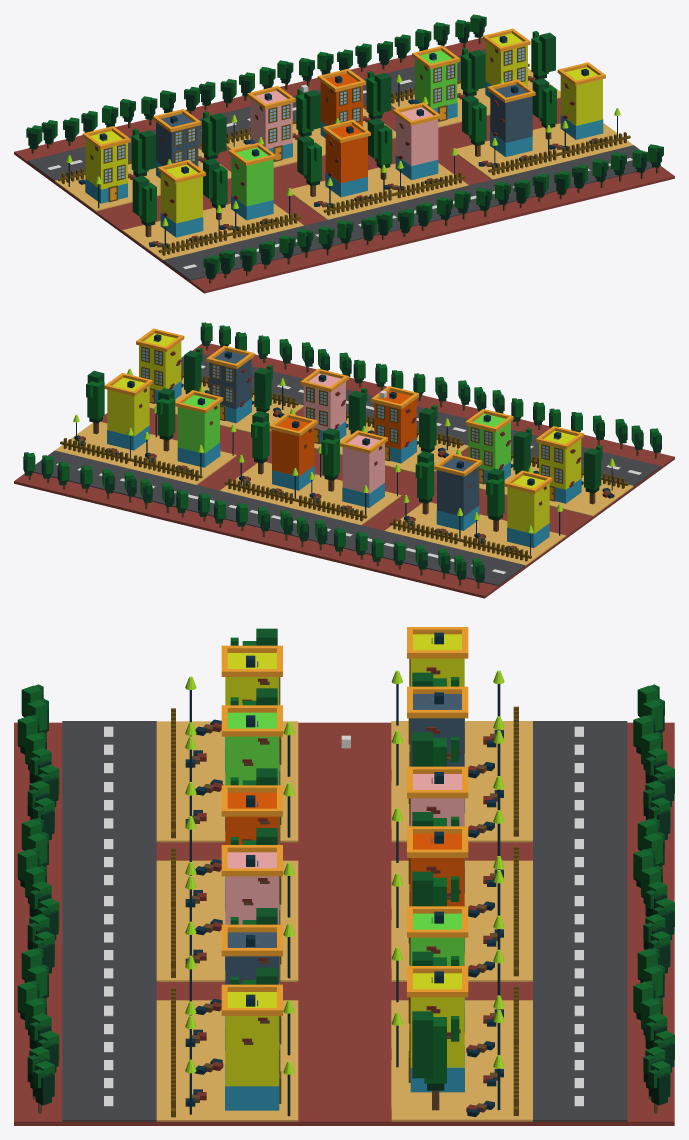
The model's file is game.fbx.
3 views of the same model, one above another, from view 1: azimuth 30°, elevation 25°; view 2: azimuth 150°, elevation 25°; view 3: azimuth 270°, elevation 25° (orthographic). The views are drawn at different scales.
Visible parts, largest first — view 1: land, Cube.013, Cube.012, building2.008, building2.006, building2.011, building2.007, building2.009, building2.010, building2, building2.004, building2.002 (+42 smaller); view 2: land, Cube.012, Cube.013, building2.004, building2, building2.002, building2.001, building2.003, building2.005, building2.011, building2.007, building2.009 (+43 smaller); view 3: land, Cube.013, Cube.012, yard.005, building2.006, yard.006, yard.010, yard.001, yard.008, yard.003, yard.002, yard.004 (+34 smaller).
Boxes of the visible parts, x1,y1,x2,y2 form: land: [14, 37, 674, 293]; Cube.013: [163, 145, 660, 280]; Cube.012: [27, 49, 485, 181]; building2.008: [395, 107, 438, 180]; building2.006: [560, 67, 603, 139]; building2.011: [160, 164, 203, 237]; building2.007: [490, 84, 532, 156]; building2.009: [325, 124, 367, 197]; building2.010: [231, 147, 273, 220]; building2: [85, 131, 127, 203]; building2.004: [415, 50, 457, 119]; building2.002: [250, 90, 292, 159]; land: [14, 343, 674, 598]; Cube.012: [32, 450, 525, 585]; Cube.013: [181, 354, 660, 486]; building2.004: [177, 395, 220, 467]; building2: [507, 475, 549, 547]; building2.002: [342, 435, 384, 507]; building2.001: [436, 458, 479, 530]; building2.003: [272, 418, 314, 490]; building2.005: [107, 377, 149, 450]; building2.011: [539, 431, 581, 503]; building2.007: [209, 350, 251, 423]; building2.009: [374, 390, 416, 463]; land: [14, 722, 674, 1125]; Cube.013: [62, 721, 156, 1121]; Cube.012: [533, 721, 627, 1121]; yard.005: [391, 1060, 532, 1121]; building2.006: [225, 992, 279, 1110]; yard.006: [156, 1060, 298, 1121]; yard.010: [156, 781, 298, 842]; yard.001: [391, 780, 532, 842]; yard.008: [156, 920, 298, 981]; yard.003: [391, 920, 532, 981]; yard.002: [391, 860, 532, 920]; yard.004: [391, 1000, 532, 1059].
Bounding box in the file's own units: 20086 × 3635 × 14008.
